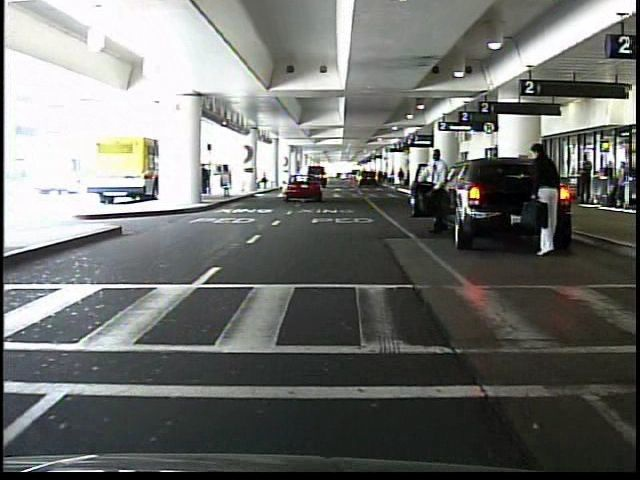person: (526, 144, 568, 261), (425, 149, 450, 241), (577, 156, 591, 205), (196, 160, 212, 196), (397, 167, 407, 189)
